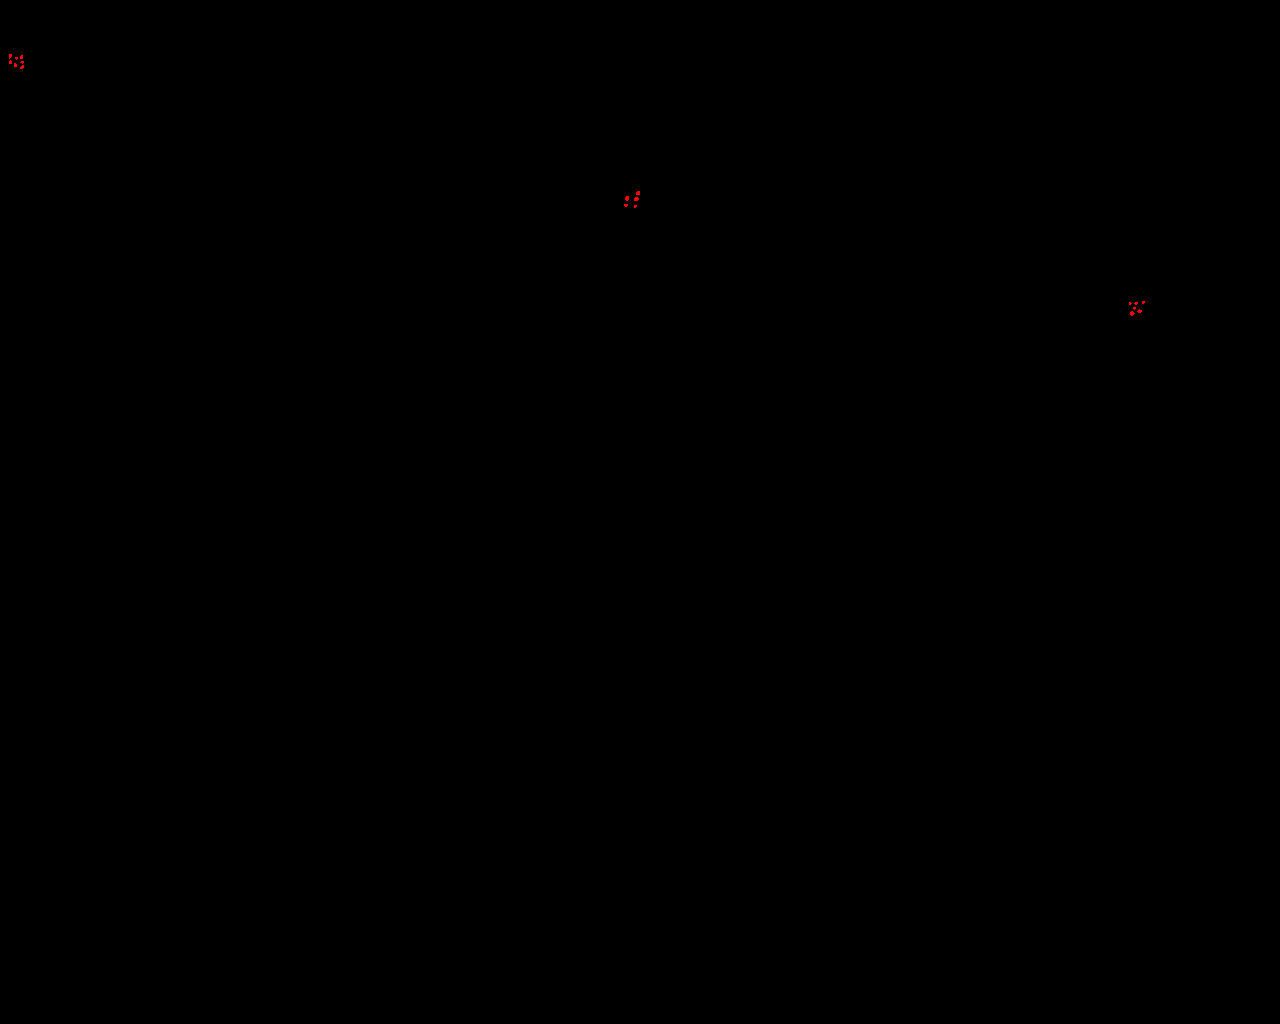Target: (1137, 309, 1142, 313), (1130, 311, 1135, 316), (20, 65, 24, 69), (625, 196, 629, 201), (634, 197, 639, 201), (20, 61, 24, 64), (14, 63, 17, 67), (636, 191, 639, 195), (624, 204, 628, 207), (1134, 302, 1138, 305), (20, 55, 23, 59), (634, 205, 637, 208), (1142, 301, 1145, 304), (1128, 302, 1132, 305), (1133, 307, 1136, 310), (9, 54, 11, 59), (9, 60, 11, 64), (15, 57, 18, 60)
